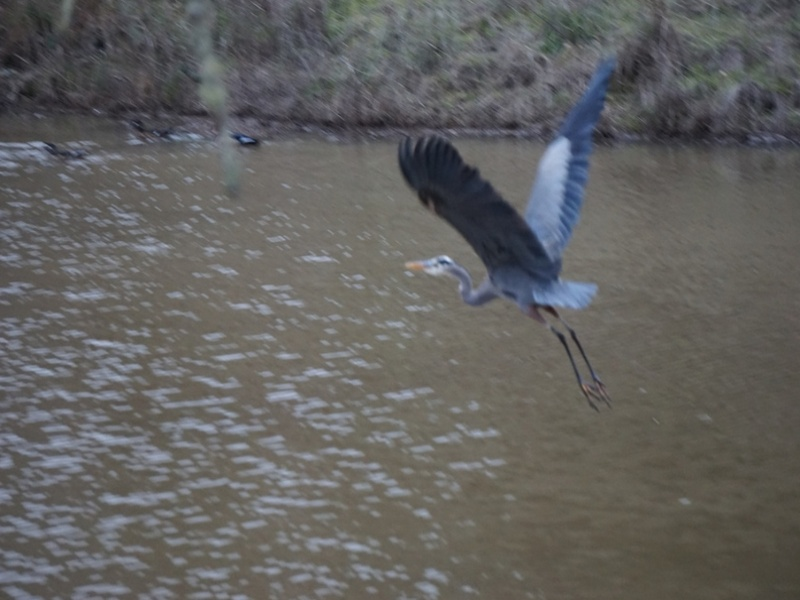heron: (395, 72, 616, 413)
